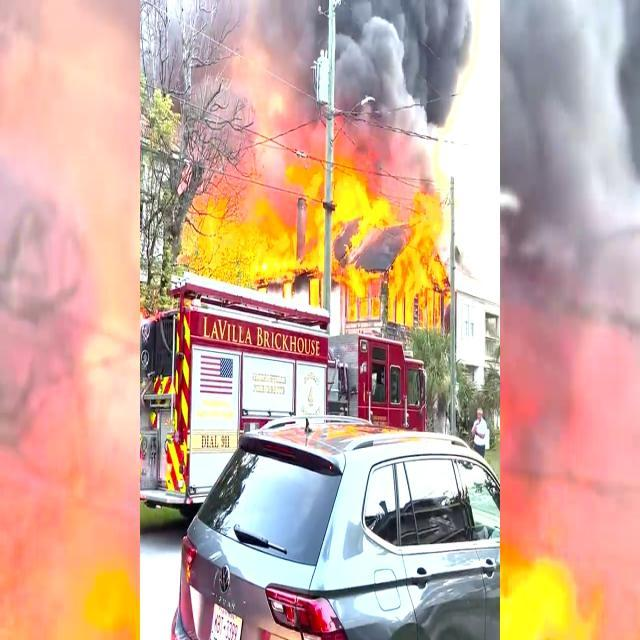Fire: (208, 187, 444, 311)
Smoke: (178, 2, 478, 98), (234, 109, 446, 181)
